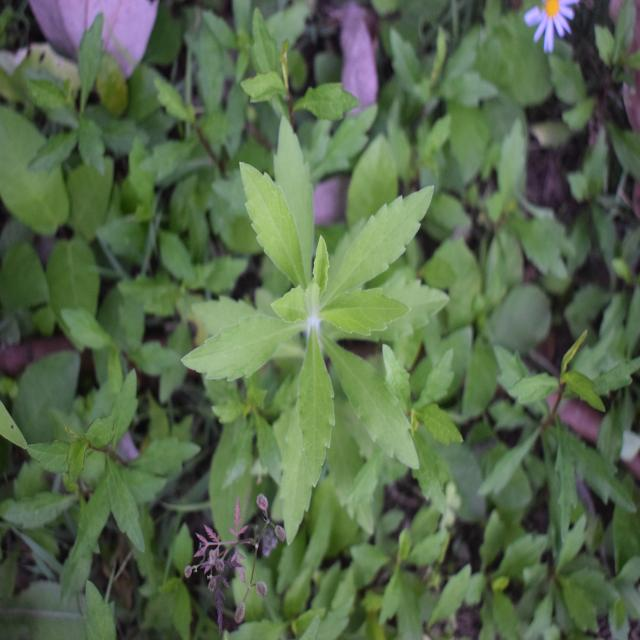horseweed: (214, 147, 450, 490)
